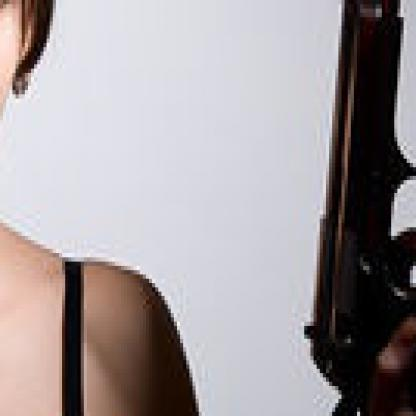gun: (304, 0, 413, 412)
